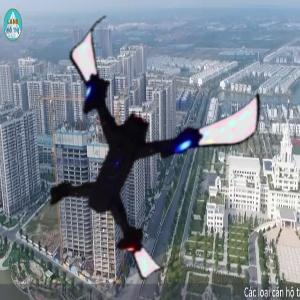drone: (17, 27, 244, 254)
